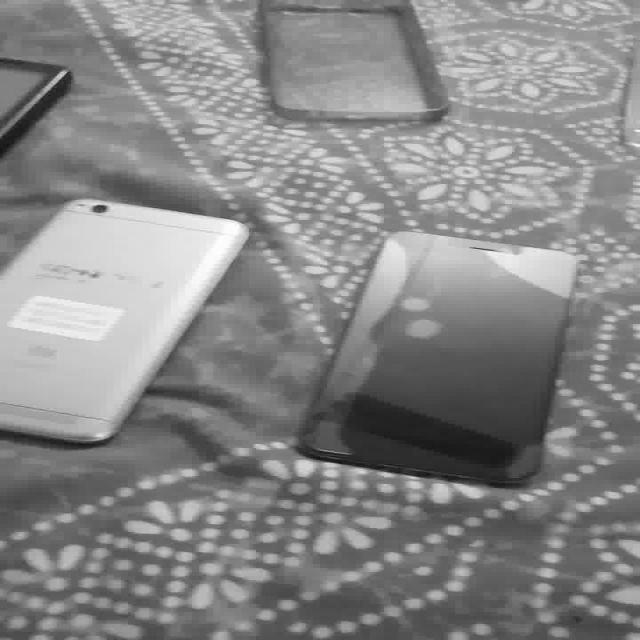fake: (302, 224, 582, 471), (1, 196, 251, 450), (3, 40, 71, 156)
